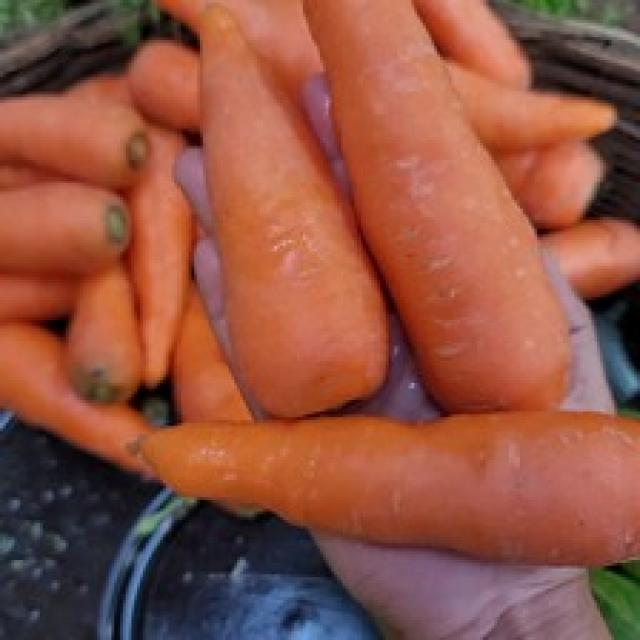Fresh_Carrot: (312, 0, 598, 394), (191, 14, 368, 426), (137, 412, 640, 554)
